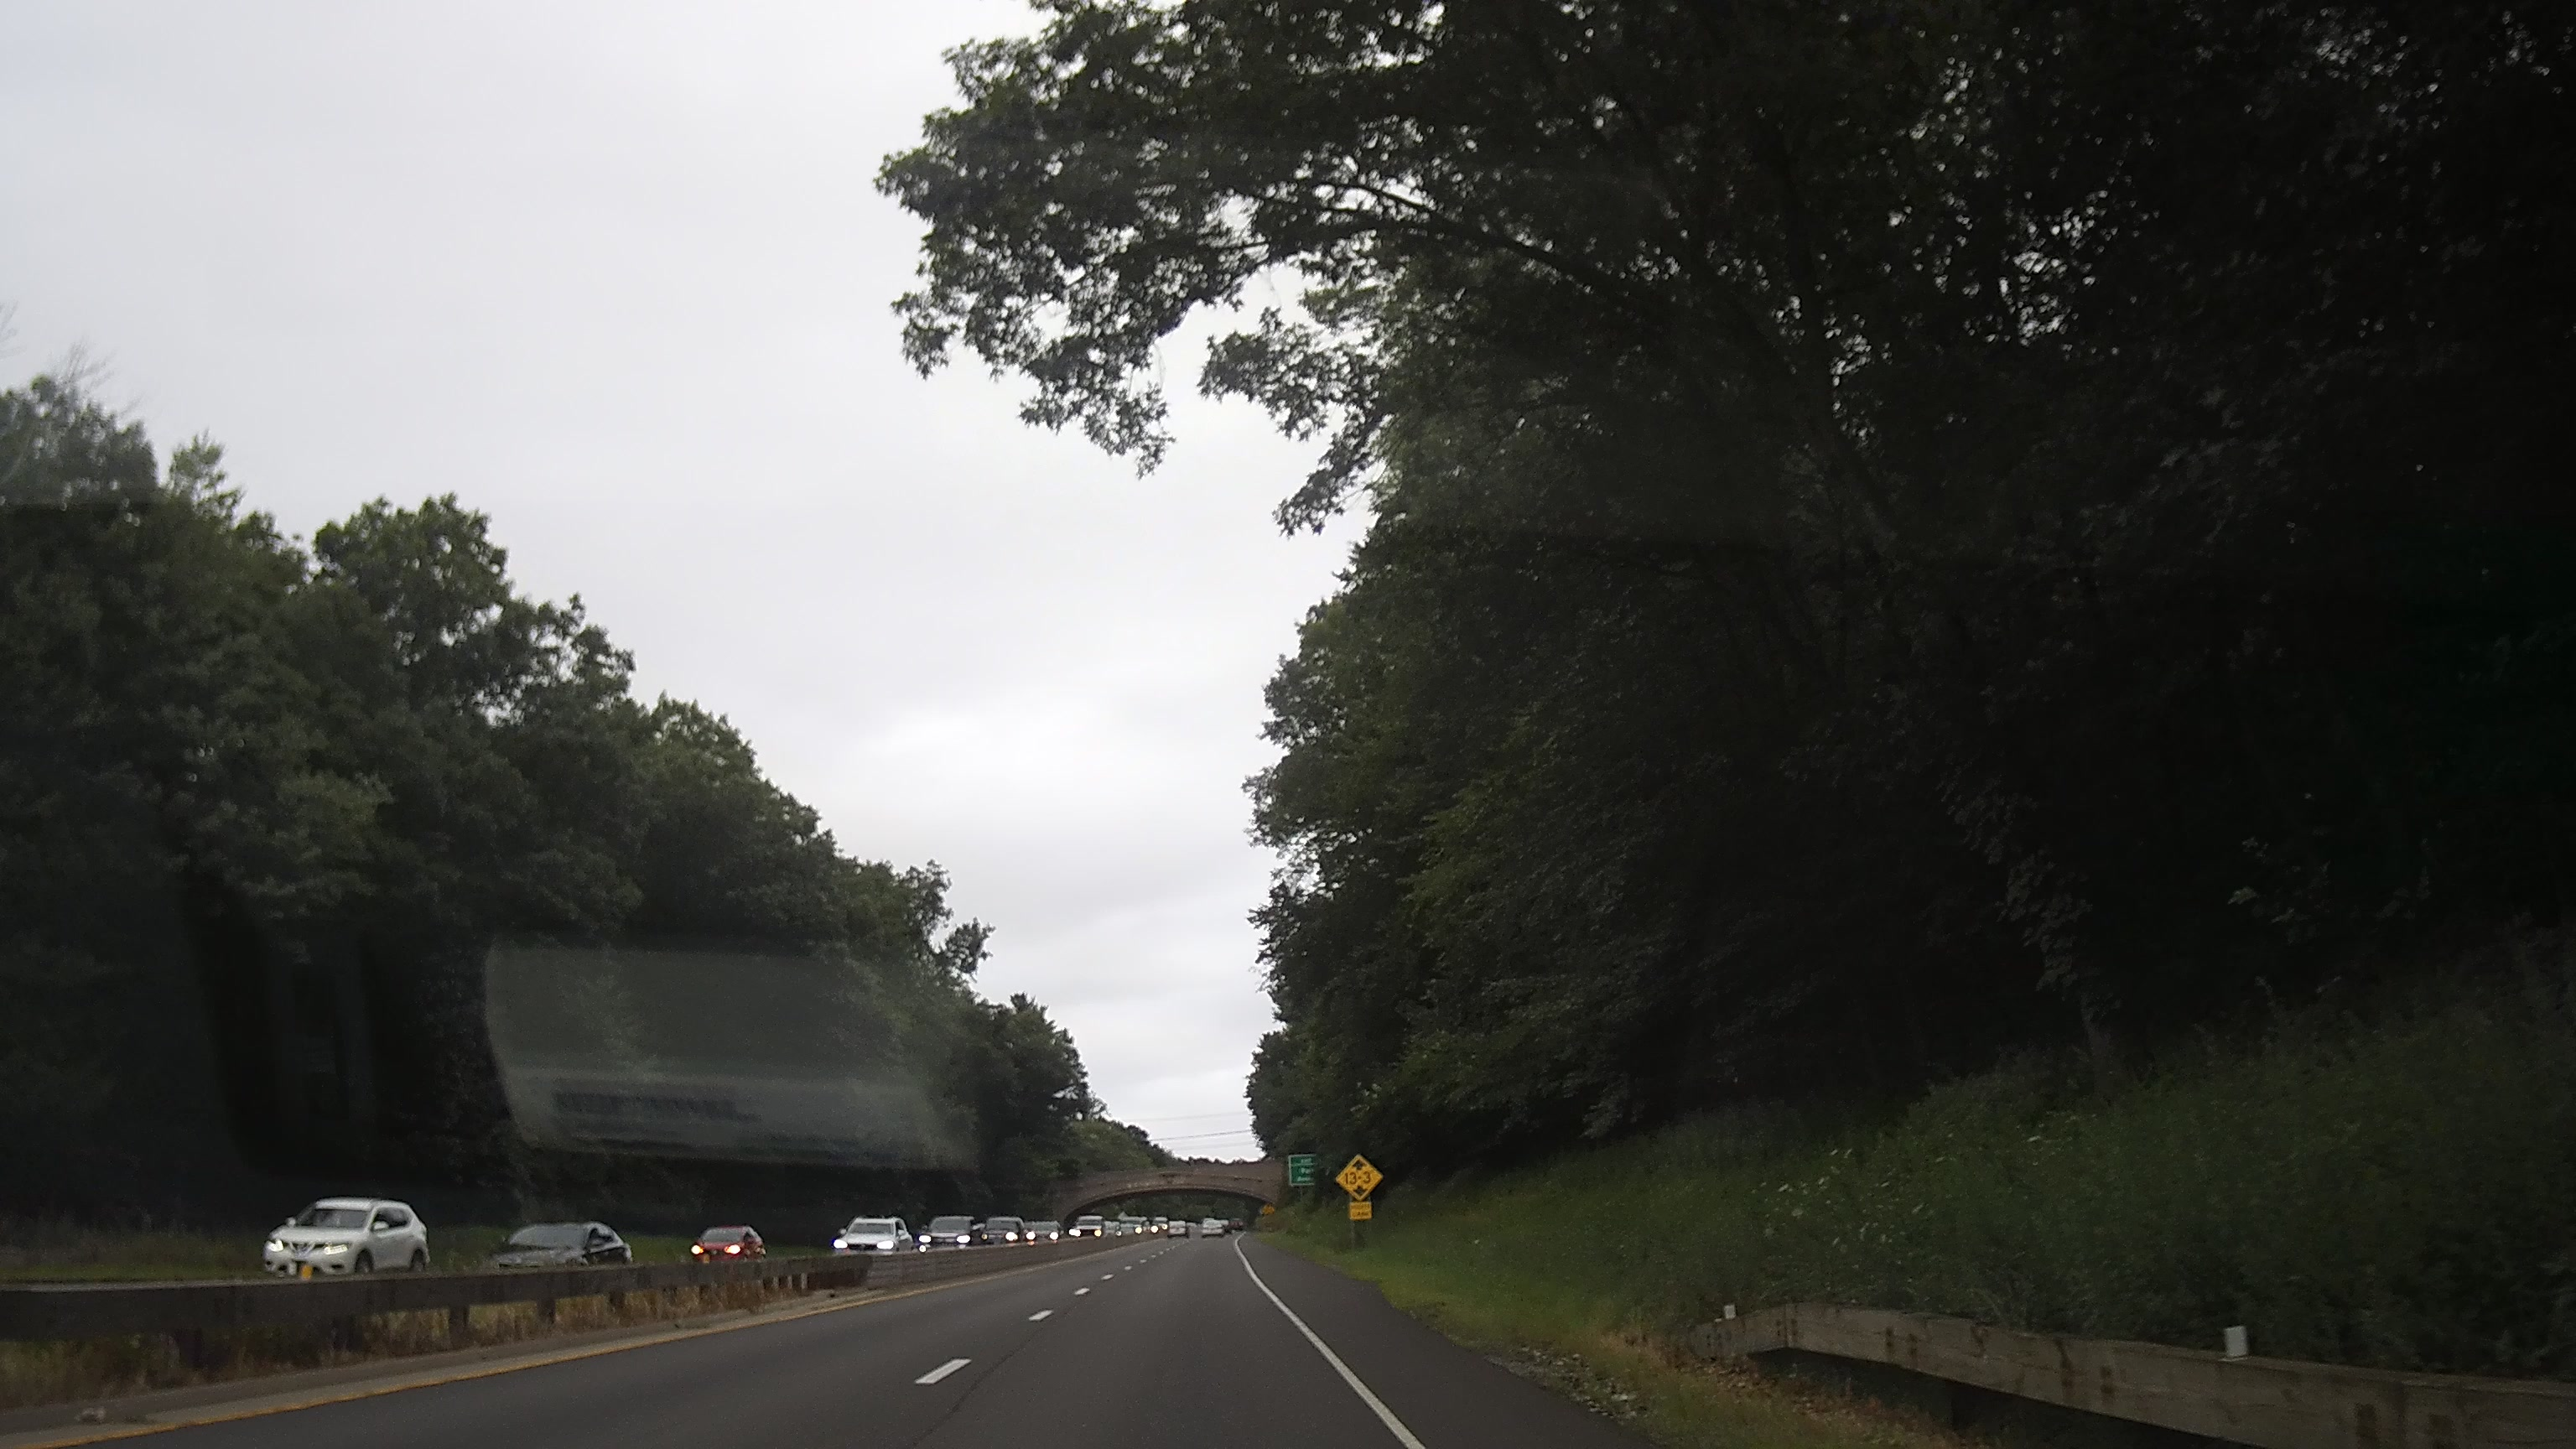low-clearance-sign: (1334, 1154, 1384, 1201)
